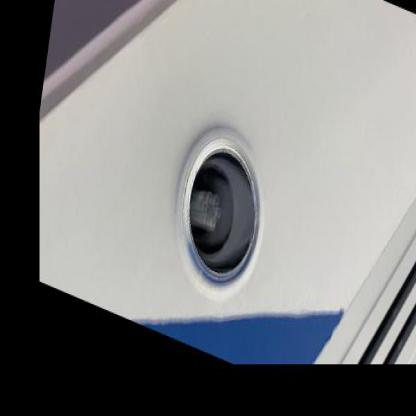light_off: (156, 90, 286, 327)
